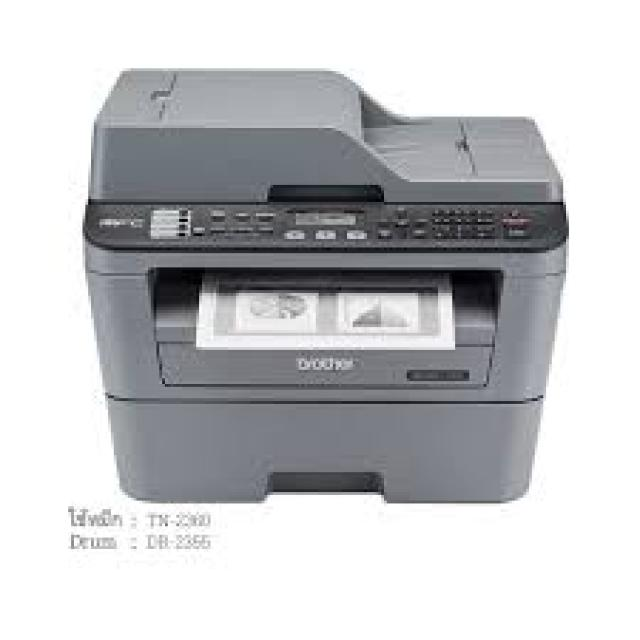printer: (80, 62, 569, 504)
